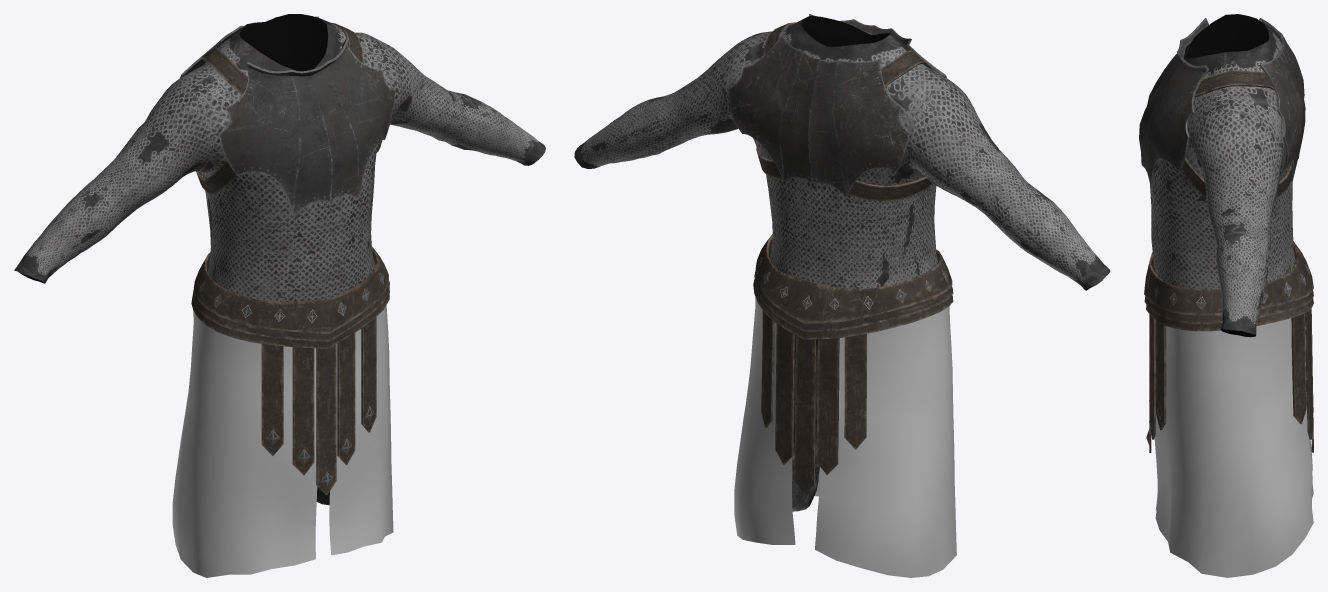
The model's file is sk_uruk_mordor_chainmail_medium_b2.fbx.
The picture shows the model from 3 angles, left to right: view 1: azimuth 30°, elevation 25°; view 2: azimuth 150°, elevation 25°; view 3: azimuth 270°, elevation 25°; orthographic projection. The views are drawn at different scales.
Parts seen in each view (by area): view 1: sk_uruk_mordor_chainmail_medium_b2.0, sk_uruk_mordor_chainmail_medium_b2.2, sk_uruk_mordor_chainmail_medium_b2.1, sk_uruk_mordor_chainmail_medium_b2.3; view 2: sk_uruk_mordor_chainmail_medium_b2.0, sk_uruk_mordor_chainmail_medium_b2.2, sk_uruk_mordor_chainmail_medium_b2.1, sk_uruk_mordor_chainmail_medium_b2.3; view 3: sk_uruk_mordor_chainmail_medium_b2.2, sk_uruk_mordor_chainmail_medium_b2.0, sk_uruk_mordor_chainmail_medium_b2.1, sk_uruk_mordor_chainmail_medium_b2.3.
Part boxes in pixels (x1,y1,x2,y2): sk_uruk_mordor_chainmail_medium_b2.0: [14, 14, 545, 505]; sk_uruk_mordor_chainmail_medium_b2.2: [172, 305, 393, 577]; sk_uruk_mordor_chainmail_medium_b2.1: [191, 22, 389, 495]; sk_uruk_mordor_chainmail_medium_b2.3: [180, 16, 395, 215]; sk_uruk_mordor_chainmail_medium_b2.0: [574, 15, 1110, 511]; sk_uruk_mordor_chainmail_medium_b2.2: [734, 297, 956, 577]; sk_uruk_mordor_chainmail_medium_b2.1: [753, 22, 953, 494]; sk_uruk_mordor_chainmail_medium_b2.3: [728, 14, 946, 196]; sk_uruk_mordor_chainmail_medium_b2.2: [1154, 318, 1313, 577]; sk_uruk_mordor_chainmail_medium_b2.0: [1150, 14, 1295, 337]; sk_uruk_mordor_chainmail_medium_b2.1: [1144, 70, 1313, 452]; sk_uruk_mordor_chainmail_medium_b2.3: [1139, 18, 1305, 190].
Size of the model in its own units: 1.37 by 0.4093 by 1.29.
